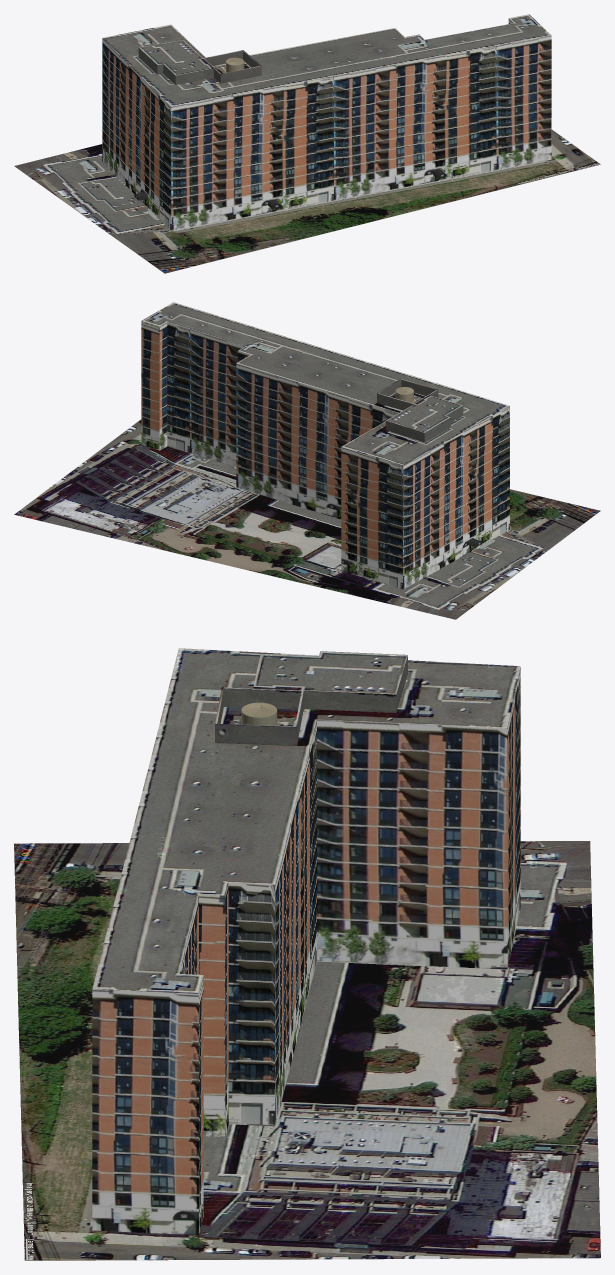
The model's file is grove.fbx.
3 views of the same model, one above another, from view 1: azimuth 30°, elevation 25°; view 2: azimuth 150°, elevation 25°; view 3: azimuth 270°, elevation 25° (orthographic). The views are drawn at different scales.
Parts seen in each view (by area): view 1: Component_1_1, Google_Earth_Snapshot; view 2: Component_1_1, Google_Earth_Snapshot; view 3: Component_1_1, Google_Earth_Snapshot.
Part boxes in pixels (x1,y1,x2,y2): Component_1_1: [102, 14, 551, 230]; Google_Earth_Snapshot: [14, 129, 600, 273]; Component_1_1: [141, 302, 509, 589]; Google_Earth_Snapshot: [14, 419, 600, 619]; Component_1_1: [92, 648, 520, 1235]; Google_Earth_Snapshot: [14, 841, 600, 1260].
Bounding box in the file's own units: 146 × 42.24 × 86.4.
